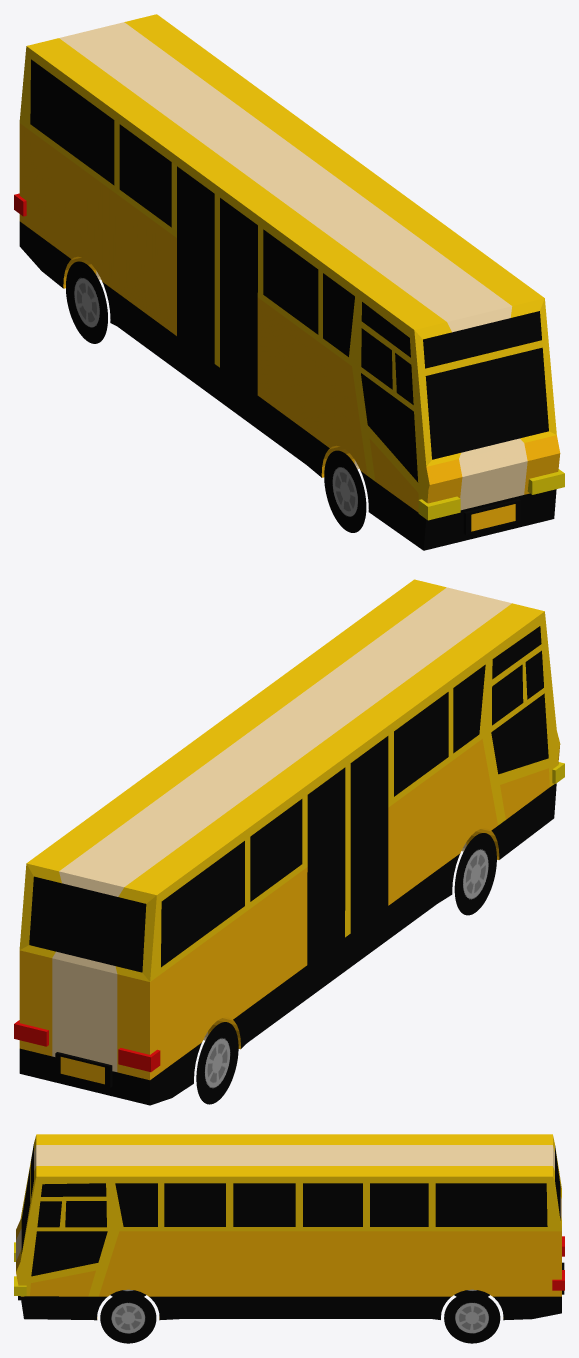
File: Bis_1_Kuning_D.fbx
3 renders of one model, top to bottom at view 1: azimuth 30°, elevation 25°; view 2: azimuth 150°, elevation 25°; view 3: azimuth 270°, elevation 25°, orthographic. The views are drawn at different scales.
Parts seen in each view (by area): view 1: Mobil6.001; view 2: Mobil6.001; view 3: Mobil6.001.
Part boxes in pixels (left/top/right/bottom): Mobil6.001: left=14, top=14, right=564, bottom=550; Mobil6.001: left=14, top=579, right=564, bottom=1105; Mobil6.001: left=14, top=1134, right=564, bottom=1343.
Bounding box in the file's own units: 420 × 734 × 2197.
Materials: 5 (3 with a texture image).
